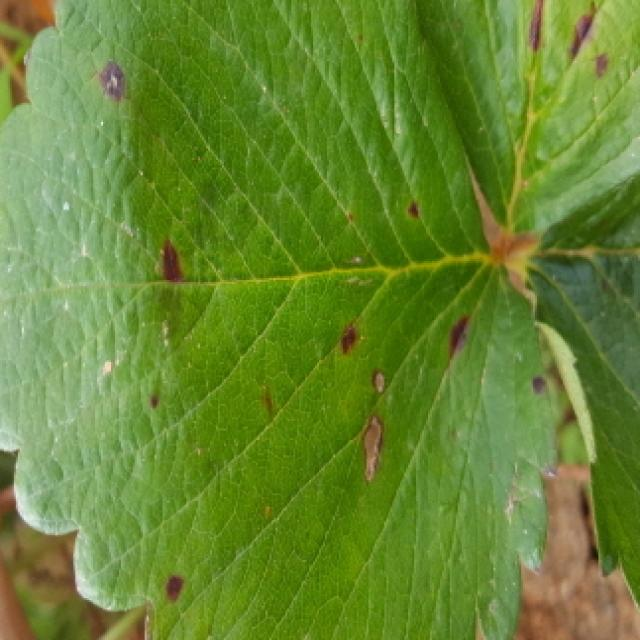Leaf Spot: (0, 0, 561, 640), (503, 173, 640, 610), (413, 0, 640, 235)
